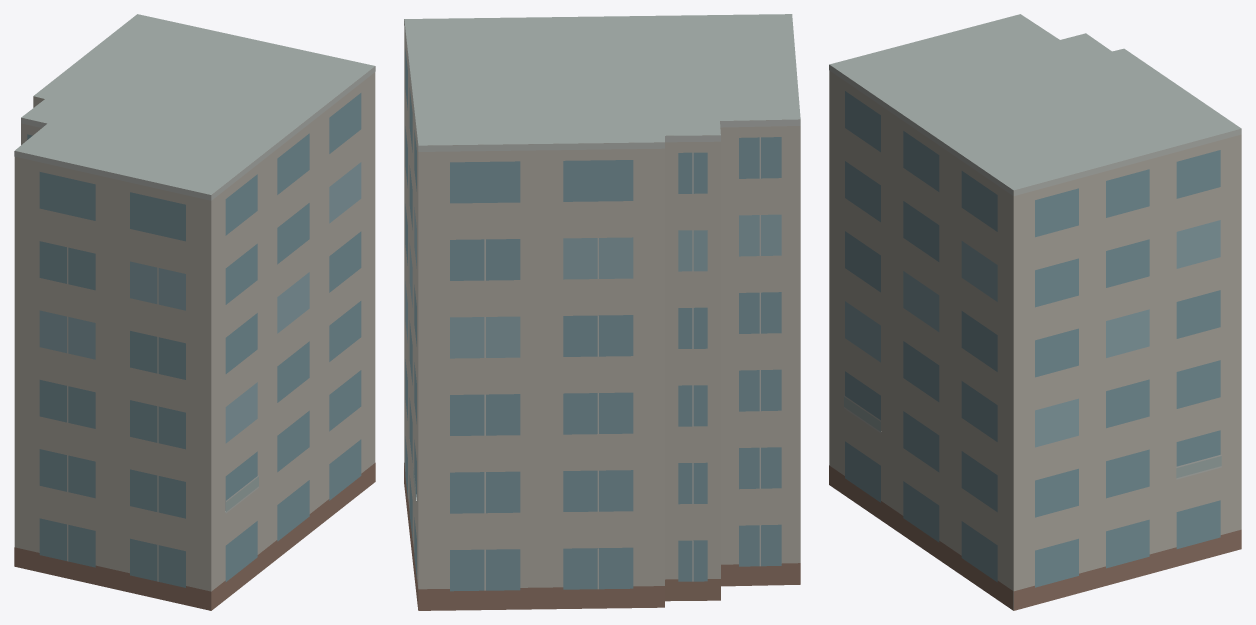
Rendered from survey-upis-32842081.glb.
The picture shows the model from 3 angles, left to right: view 1: azimuth 30°, elevation 25°; view 2: azimuth 150°, elevation 25°; view 3: azimuth 270°, elevation 25°; orthographic projection. The views are drawn at different scales.
Parts seen in each view (by area): view 1: survey-upis-32842081.tmp; view 2: survey-upis-32842081.tmp; view 3: survey-upis-32842081.tmp.
Boxes of the visible parts, <box> form: survey-upis-32842081.tmp: <box>14,14,375,610</box>; survey-upis-32842081.tmp: <box>404,14,800,610</box>; survey-upis-32842081.tmp: <box>829,14,1241,610</box>.
Bounding box in the file's own units: 15.8 × 17.55 × 15.61.
